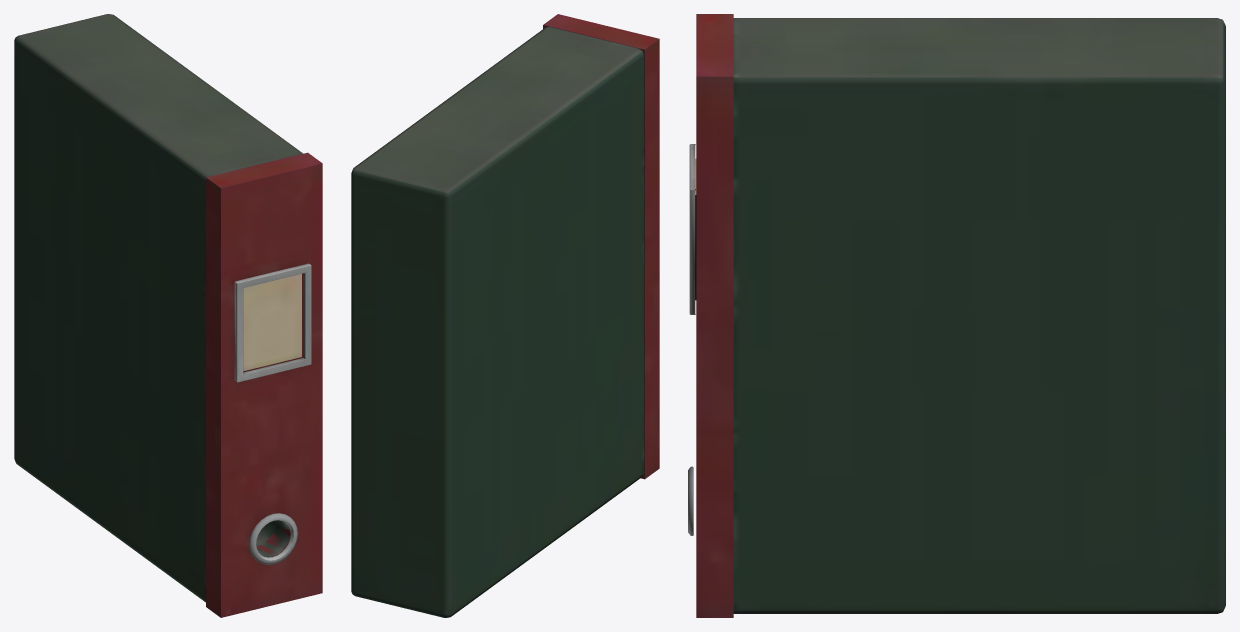
The picture shows the model from 3 angles, left to right: view 1: azimuth 30°, elevation 25°; view 2: azimuth 150°, elevation 25°; view 3: azimuth 270°, elevation 25°; orthographic projection. The views are drawn at different scales.
Parts seen in each view (by area): view 1: box_file; view 2: box_file; view 3: box_file.
Boxes of the visible parts, x1,y1,x2,y2 form: box_file: (14,14,322,617); box_file: (351,14,659,617); box_file: (688,14,1225,617).
Size of the model in its own units: 0.079 by 0.3184 by 0.2866.
Materials: 1 (1 with a texture image).
